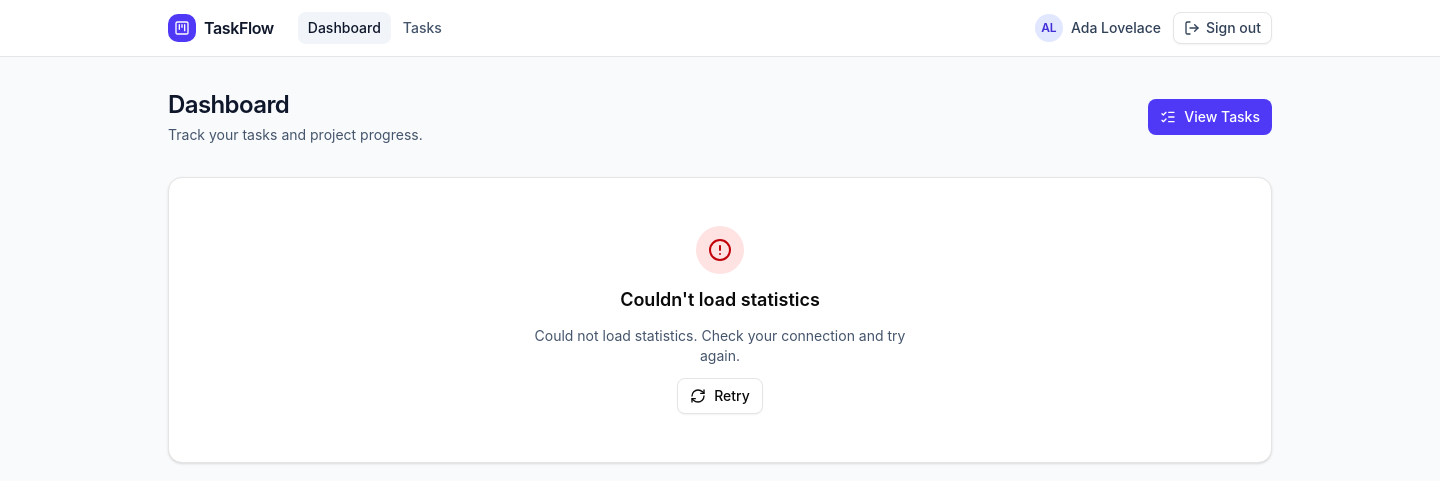
it: dashboard › shows an error with retry after a server error
This screenshot has width=1440, height=481.
Expected: the message shows "Could not load statistics", top-left (534, 327), bottom-right (905, 364)
Click the button "Retry" at (720, 396), box top-left (677, 378), bottom-right (763, 414)
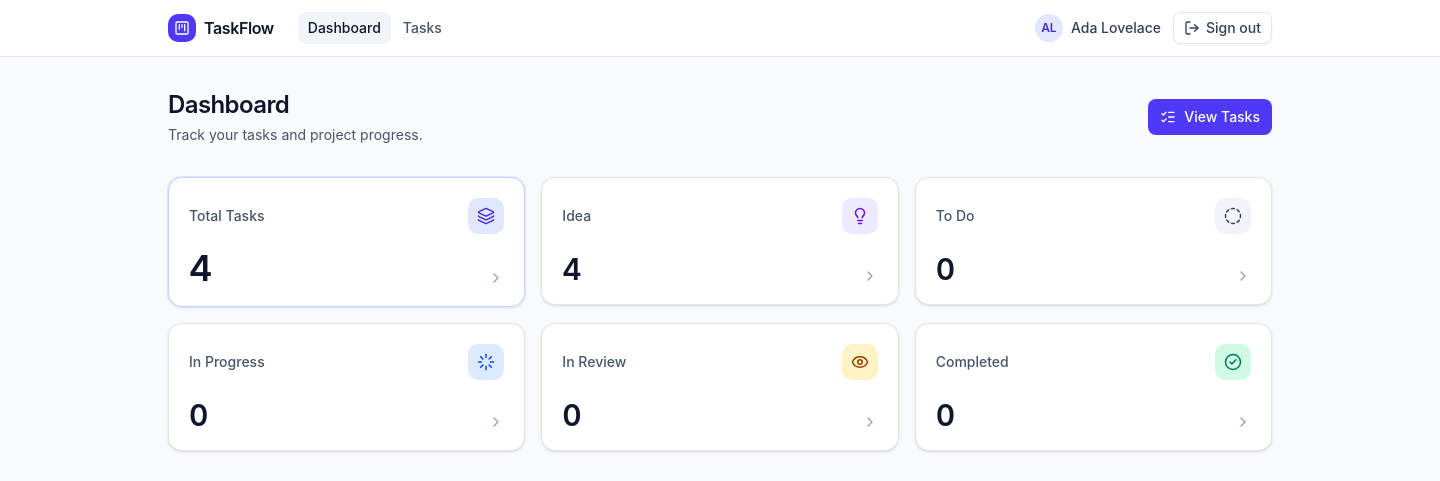
Expected: the link with aria-label "Idea: 4 tasks" is shown, top-left (541, 177), bottom-right (899, 305)
Expected: the message "Could not load statistics. Check your connection and try again." is gone
